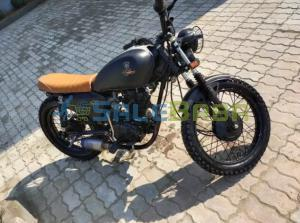bike: (32, 1, 270, 176)
